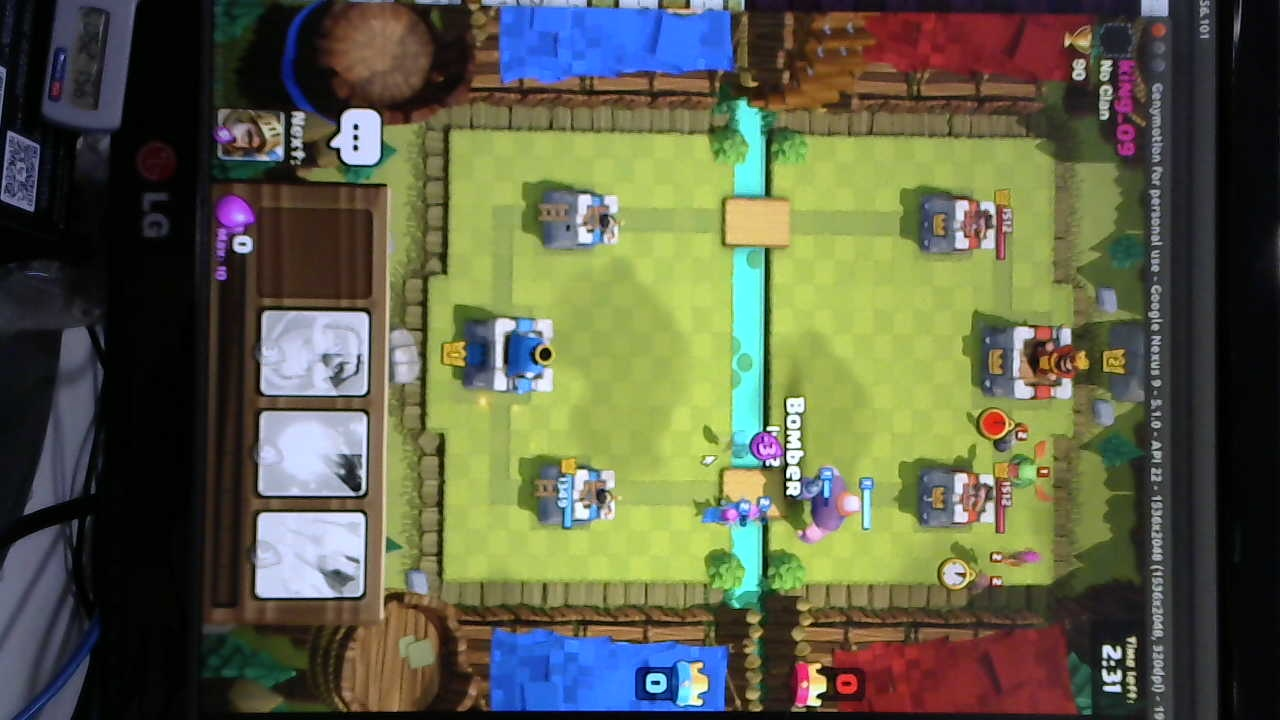archers: (694, 493, 776, 528)
arena: (541, 462, 617, 529), (542, 190, 621, 251)
bomb: (997, 414, 1036, 455)
dragon: (1004, 439, 1053, 517)
earena: (921, 466, 999, 529), (921, 195, 1000, 257)
eking: (975, 321, 1086, 402)
giant: (808, 462, 860, 546)
king: (464, 312, 560, 398)
musketeer: (790, 473, 834, 506)
